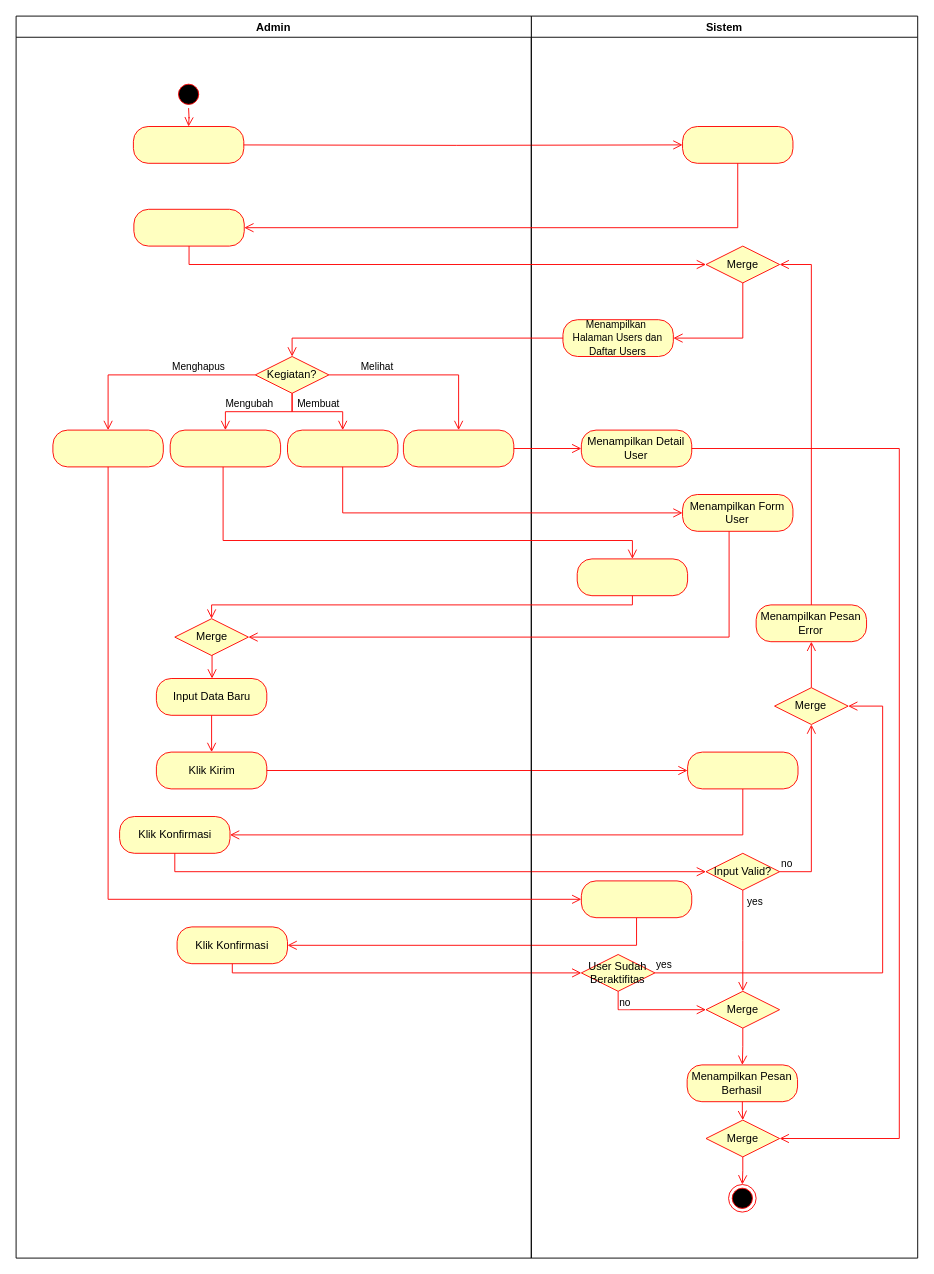
The diagram is 934 pixels wide and 1274 high, and some of its shapes have lost their labels. Here are the shapes that lost their labels. From the top down, the centre of each, then its label:
(188,144): Login
(737,144): Menampilkan Dashboard Admin
(188,227): Klik Menu Users
(107,448): Klik Tombol Hapus
(225,448): Klik Tombol Edit
(342,448): Klik Tombol Tambah User
(458,448): Klik Tombol Detail
(632,577): Menampilkan Form User Dengan Data
(742,770): Menampilkan Konfirmasi
(636,899): Menampilakan Pesan Konfirmasi
